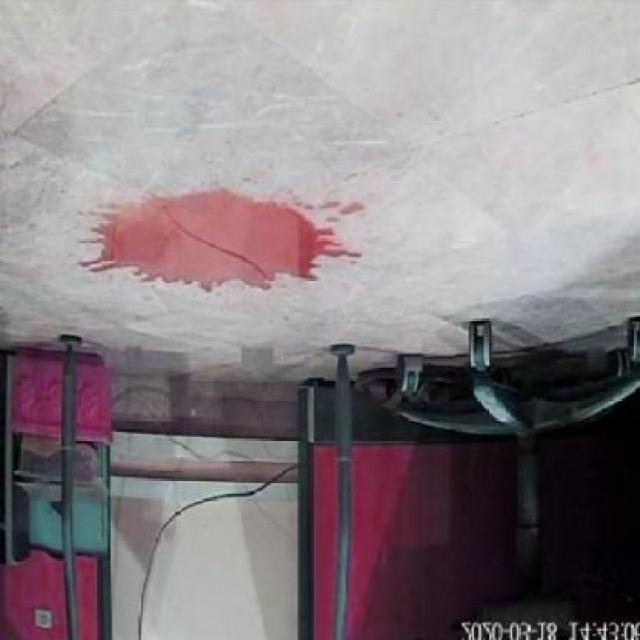spillage: (86, 187, 345, 288)
